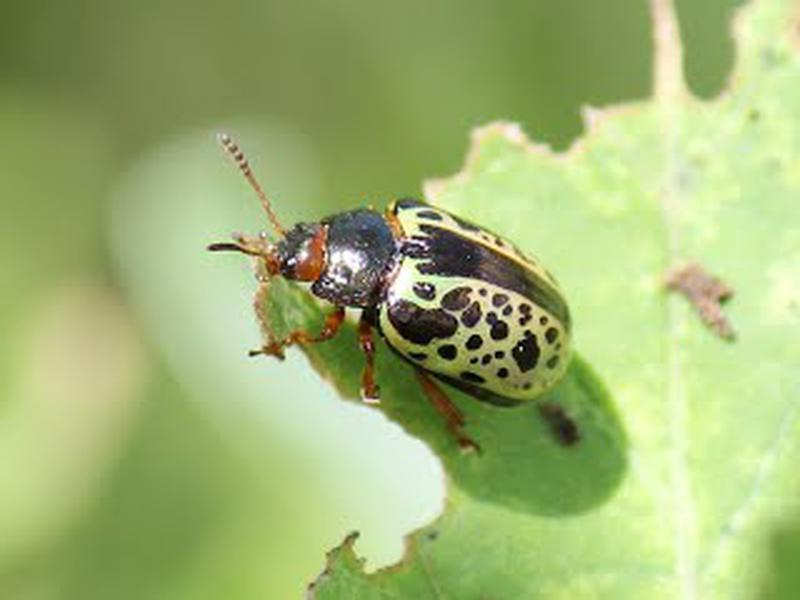Spiny_beetle: (197, 180, 587, 421)
